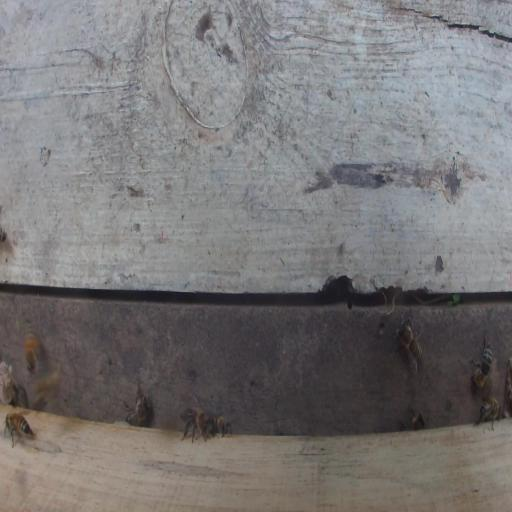nonpollenbee: (394, 315, 425, 375), (469, 333, 492, 390), (180, 407, 214, 443), (3, 410, 36, 447), (125, 383, 150, 427), (476, 395, 502, 431), (399, 408, 426, 430), (211, 415, 233, 438)
pollenbee: (23, 322, 40, 380)
